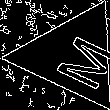M_NW: (34, 24, 109, 88)
